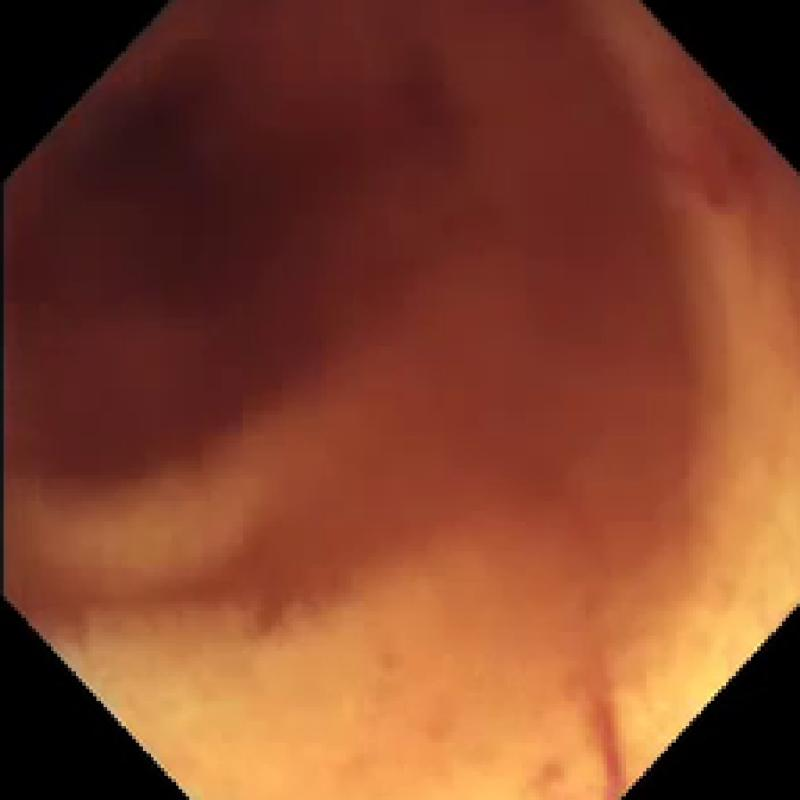bleeding: (0, 0, 668, 504)
